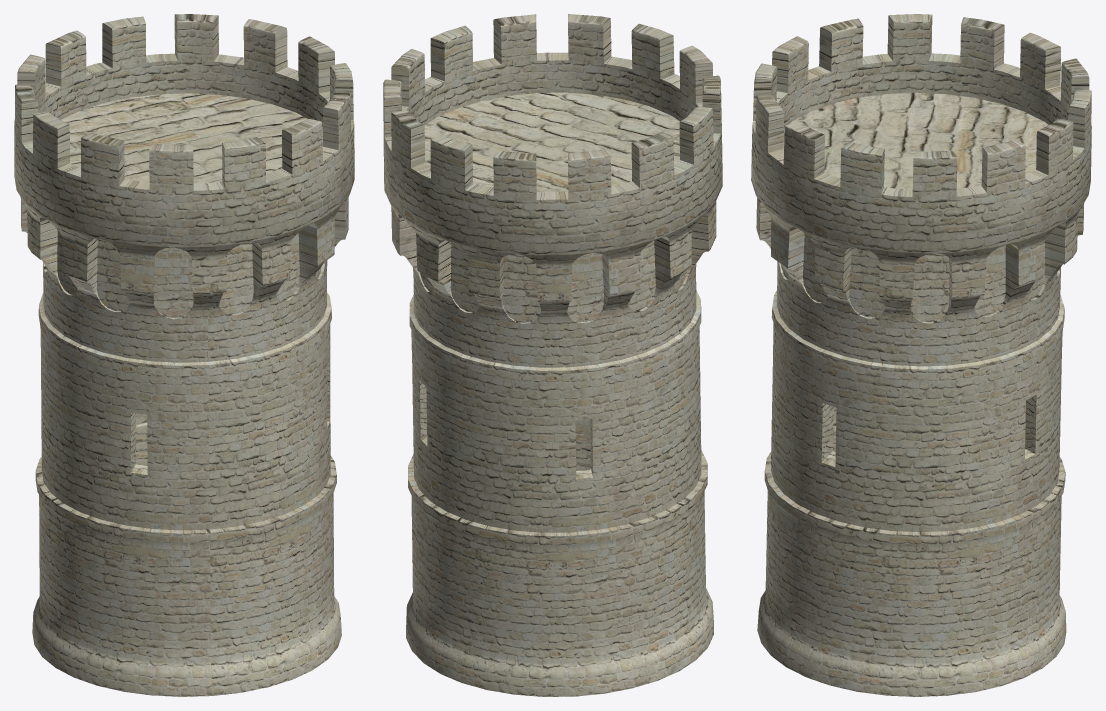
File: default_tower.fbx
The picture shows the model from 3 angles, left to right: view 1: azimuth 30°, elevation 25°; view 2: azimuth 150°, elevation 25°; view 3: azimuth 270°, elevation 25°; orthographic projection.
Visible parts, largest first — view 1: tower; view 2: tower; view 3: tower.
Part boxes in pixels (left/top/right/bottom): tower: left=14, top=14, right=354, bottom=696; tower: left=383, top=14, right=722, bottom=696; tower: left=751, top=14, right=1091, bottom=696.
Bounding box in the file's own units: 1.97 × 3.53 × 1.97.
